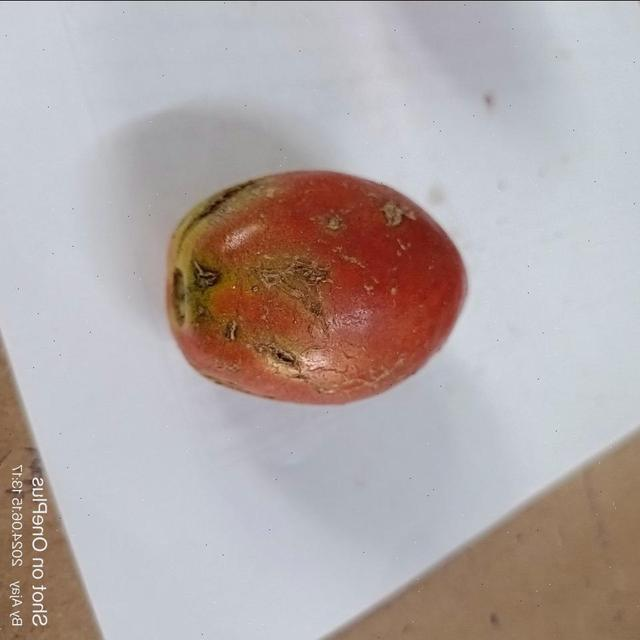Bacterial Spot Fruit: (9, 10, 264, 237)
